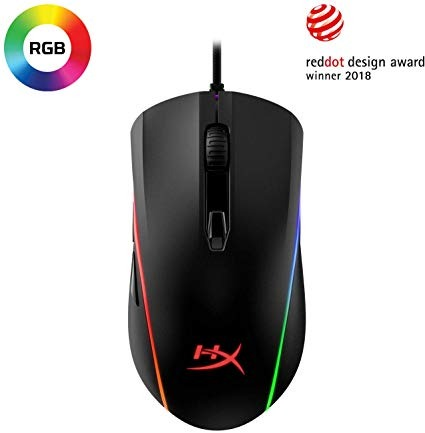mouse: (121, 84, 318, 429)
